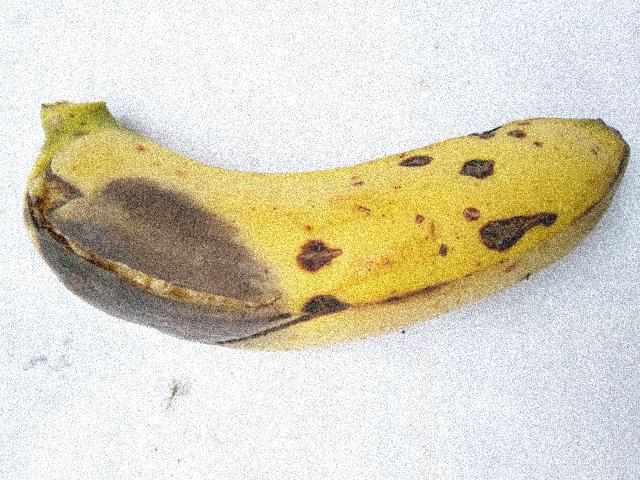rotten: (7, 165, 277, 372), (470, 194, 565, 277), (270, 228, 352, 280), (384, 135, 441, 192), (446, 146, 502, 196), (280, 287, 353, 323)
